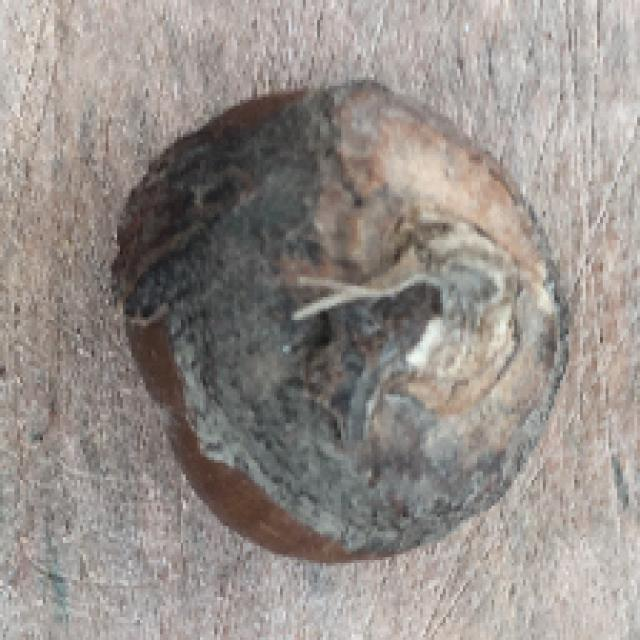DamagedHazelnut: (116, 77, 575, 566)
